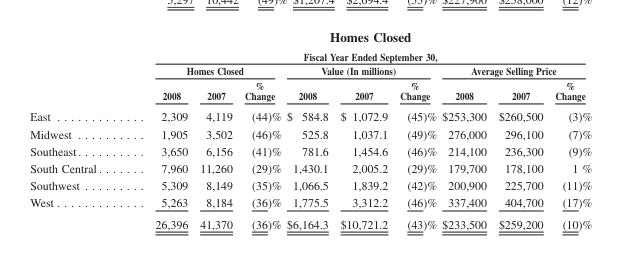table: (29, 28, 591, 230)
table column: (29, 28, 127, 230), (127, 28, 193, 230), (333, 28, 393, 230), (491, 28, 548, 230), (438, 28, 491, 230), (283, 28, 333, 230), (237, 28, 283, 230), (393, 28, 438, 230), (193, 28, 237, 230), (548, 28, 591, 230)
table column header: (29, 28, 591, 105)
table row: (29, 28, 591, 63), (29, 77, 591, 105), (29, 105, 591, 125), (29, 193, 591, 212), (29, 212, 591, 230), (29, 125, 591, 142), (29, 142, 591, 159), (29, 159, 591, 176), (29, 176, 591, 193), (29, 63, 591, 77)
table spanning cell: (127, 28, 591, 63), (127, 63, 283, 77), (283, 63, 438, 77), (438, 63, 591, 77)
